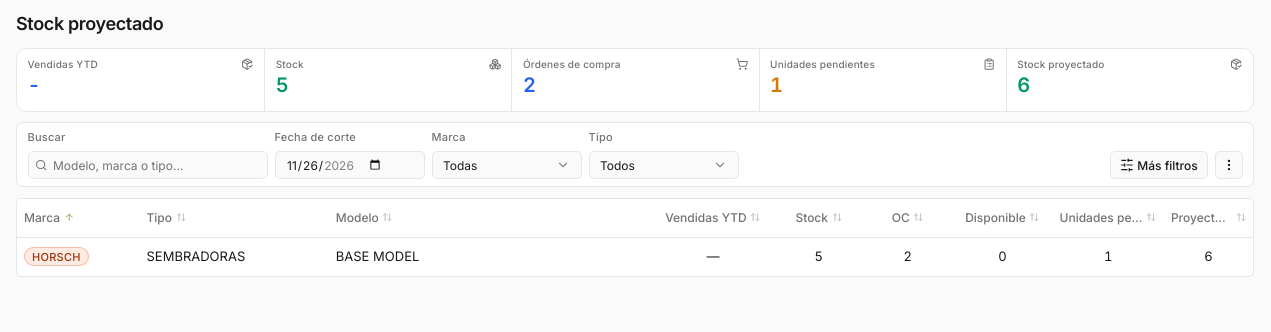
Scenario: keeps stock while YTD is pending, then includes authorized sales-only net rows and real zero
Later steps or results of the test are not shown.
Expected: the button "BASE MODEL" is shown, [336,248,419,265]
Expected: the element with class "kpi-item" reads "Stock 5", [264,48,511,110]
Press Enter in the button named "Acciones de la secci", box [1214,151,1242,179]
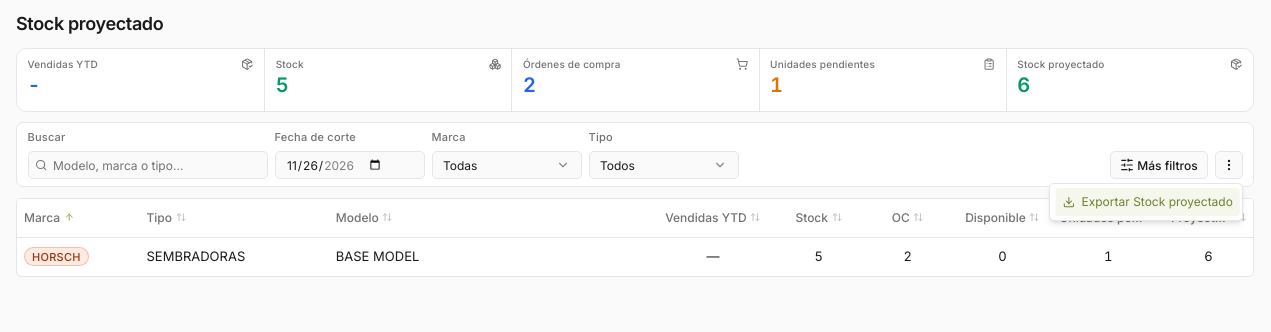
Click the menu item "Exportar Stock proyectado". click: (1148, 202)
box: [1055,188,1240,216]
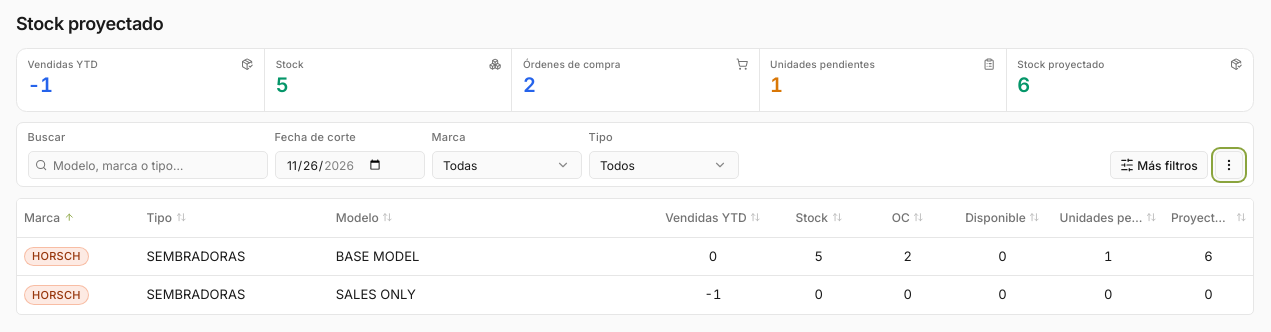
Now the button "SALES ONLY" is shown, box [336,286,416,304]
